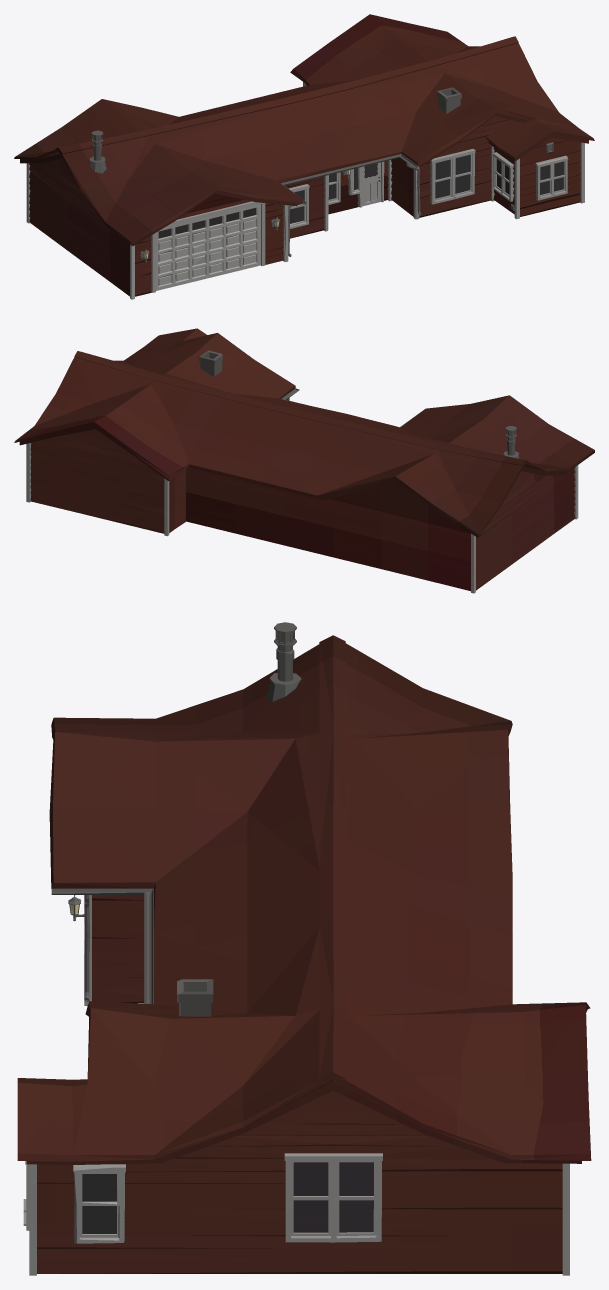
The model's file is House01.fbx.
The picture shows the model from 3 angles, top to bottom: view 1: azimuth 30°, elevation 25°; view 2: azimuth 150°, elevation 25°; view 3: azimuth 270°, elevation 25°; orthographic projection. The views are drawn at different scales.
Visible parts, largest first — view 1: SM_House_01.mo; view 2: SM_House_01.mo; view 3: SM_House_01.mo.
Boxes of the visible parts, <box> form: SM_House_01.mo: <box>14,14,594,299</box>; SM_House_01.mo: <box>14,328,594,593</box>; SM_House_01.mo: <box>17,622,591,1275</box>.
Size of the model in its own units: 2090 by 546 by 1158.
